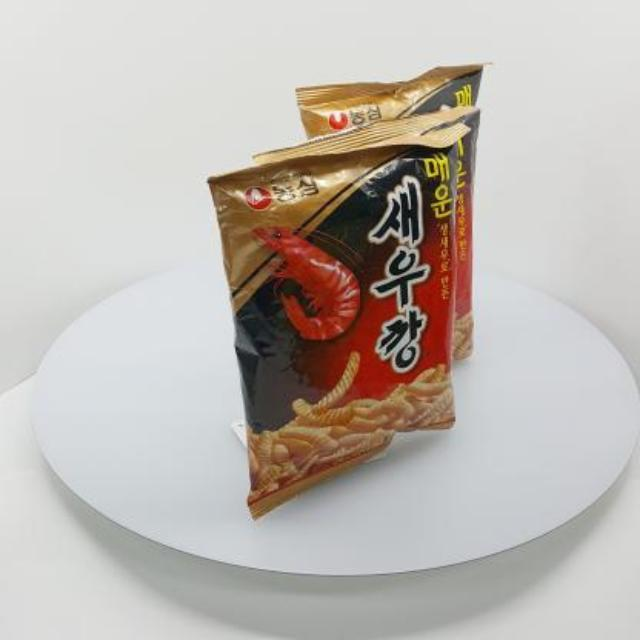snack_bag: (196, 51, 528, 524)
